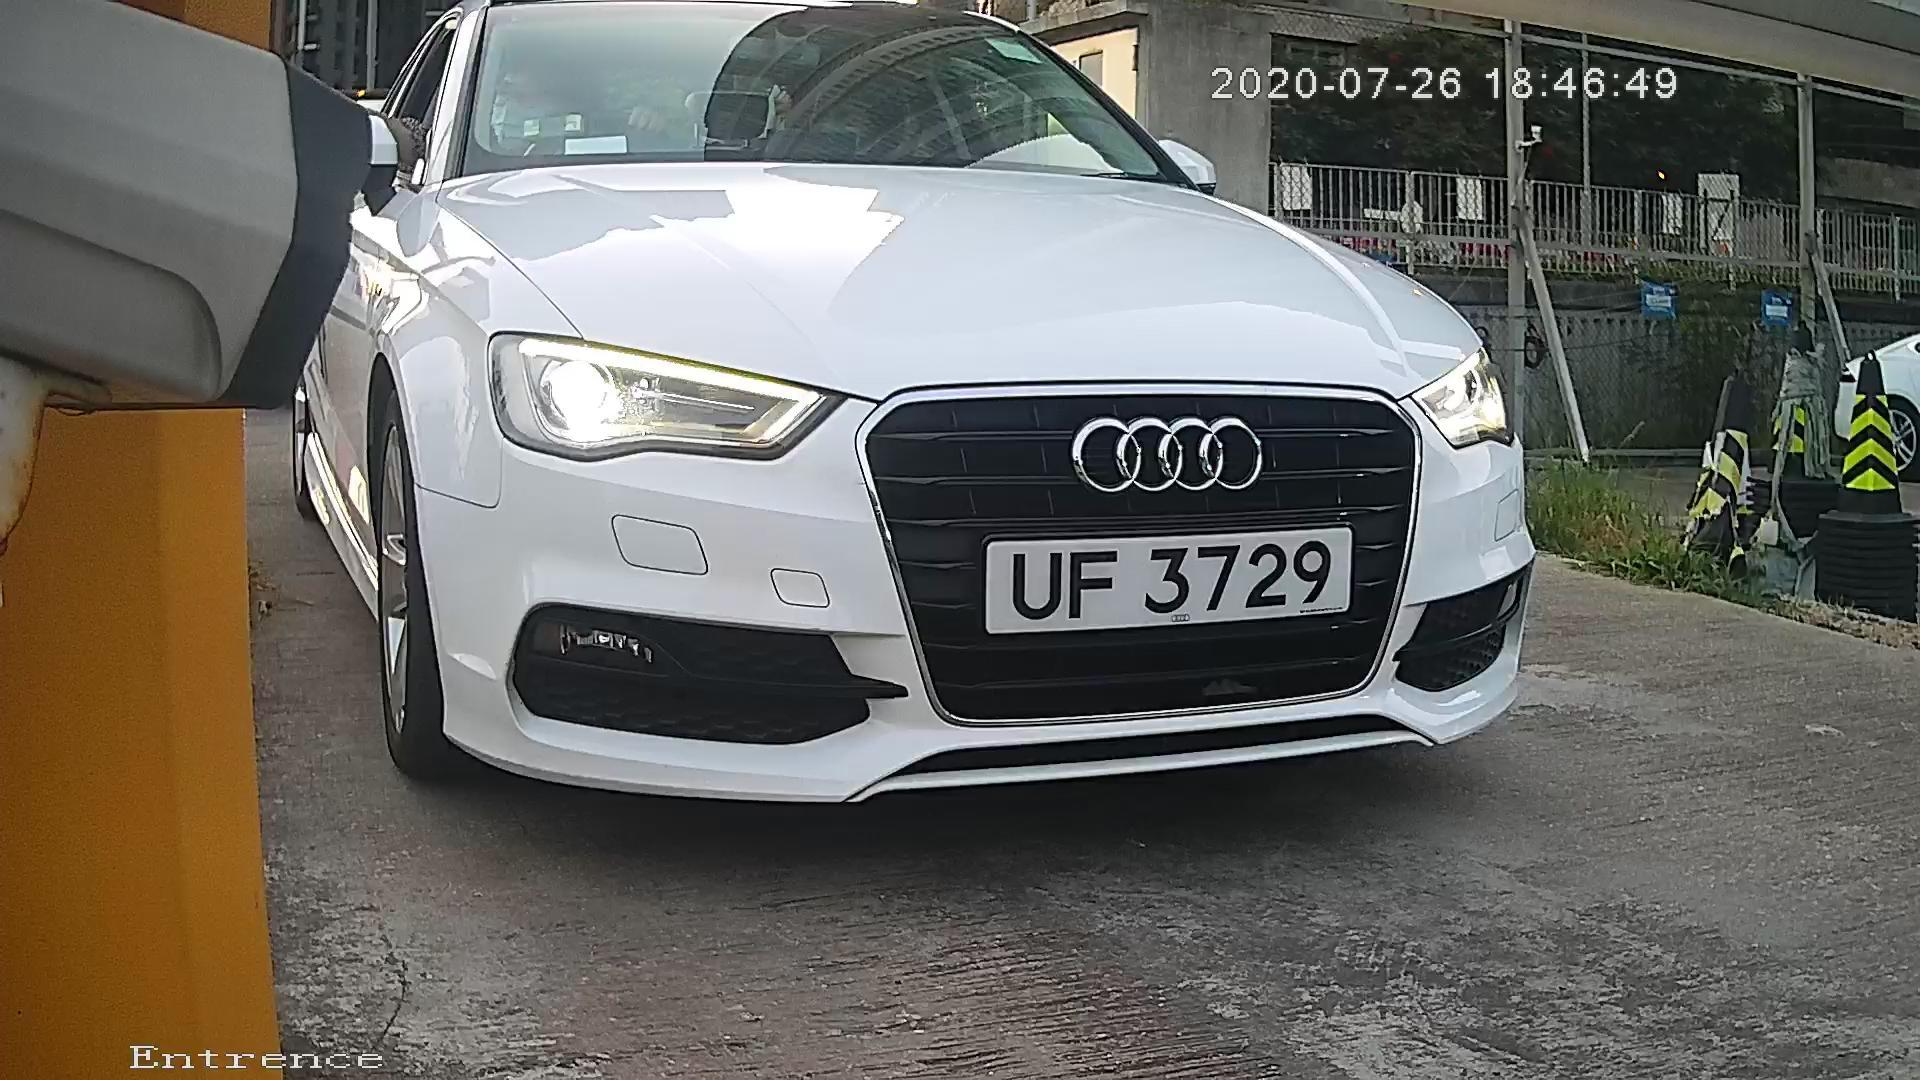License Plate: (969, 526, 1372, 642)
